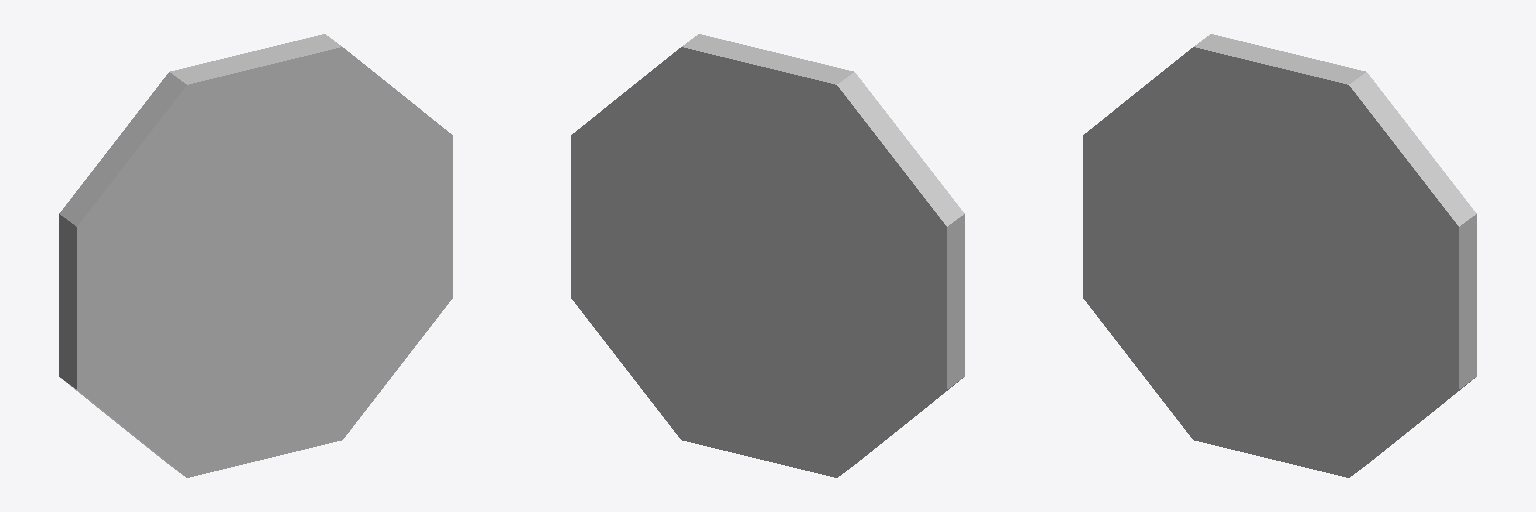
Rendered from stop_sign.obj.
3 renders of one model, left to right at view 1: azimuth 30°, elevation 25°; view 2: azimuth 150°, elevation 25°; view 3: azimuth 330°, elevation 25°, orthographic.
Visible parts, largest first — view 1: Cylinder; view 2: Cylinder; view 3: Cylinder.
Part boxes in pixels (x1,y1,x2,y2): Cylinder: (59,34,452,477); Cylinder: (571,34,964,477); Cylinder: (1083,34,1476,477).
Bounding box in the file's own units: 1.85 × 1.85 × 0.1523.